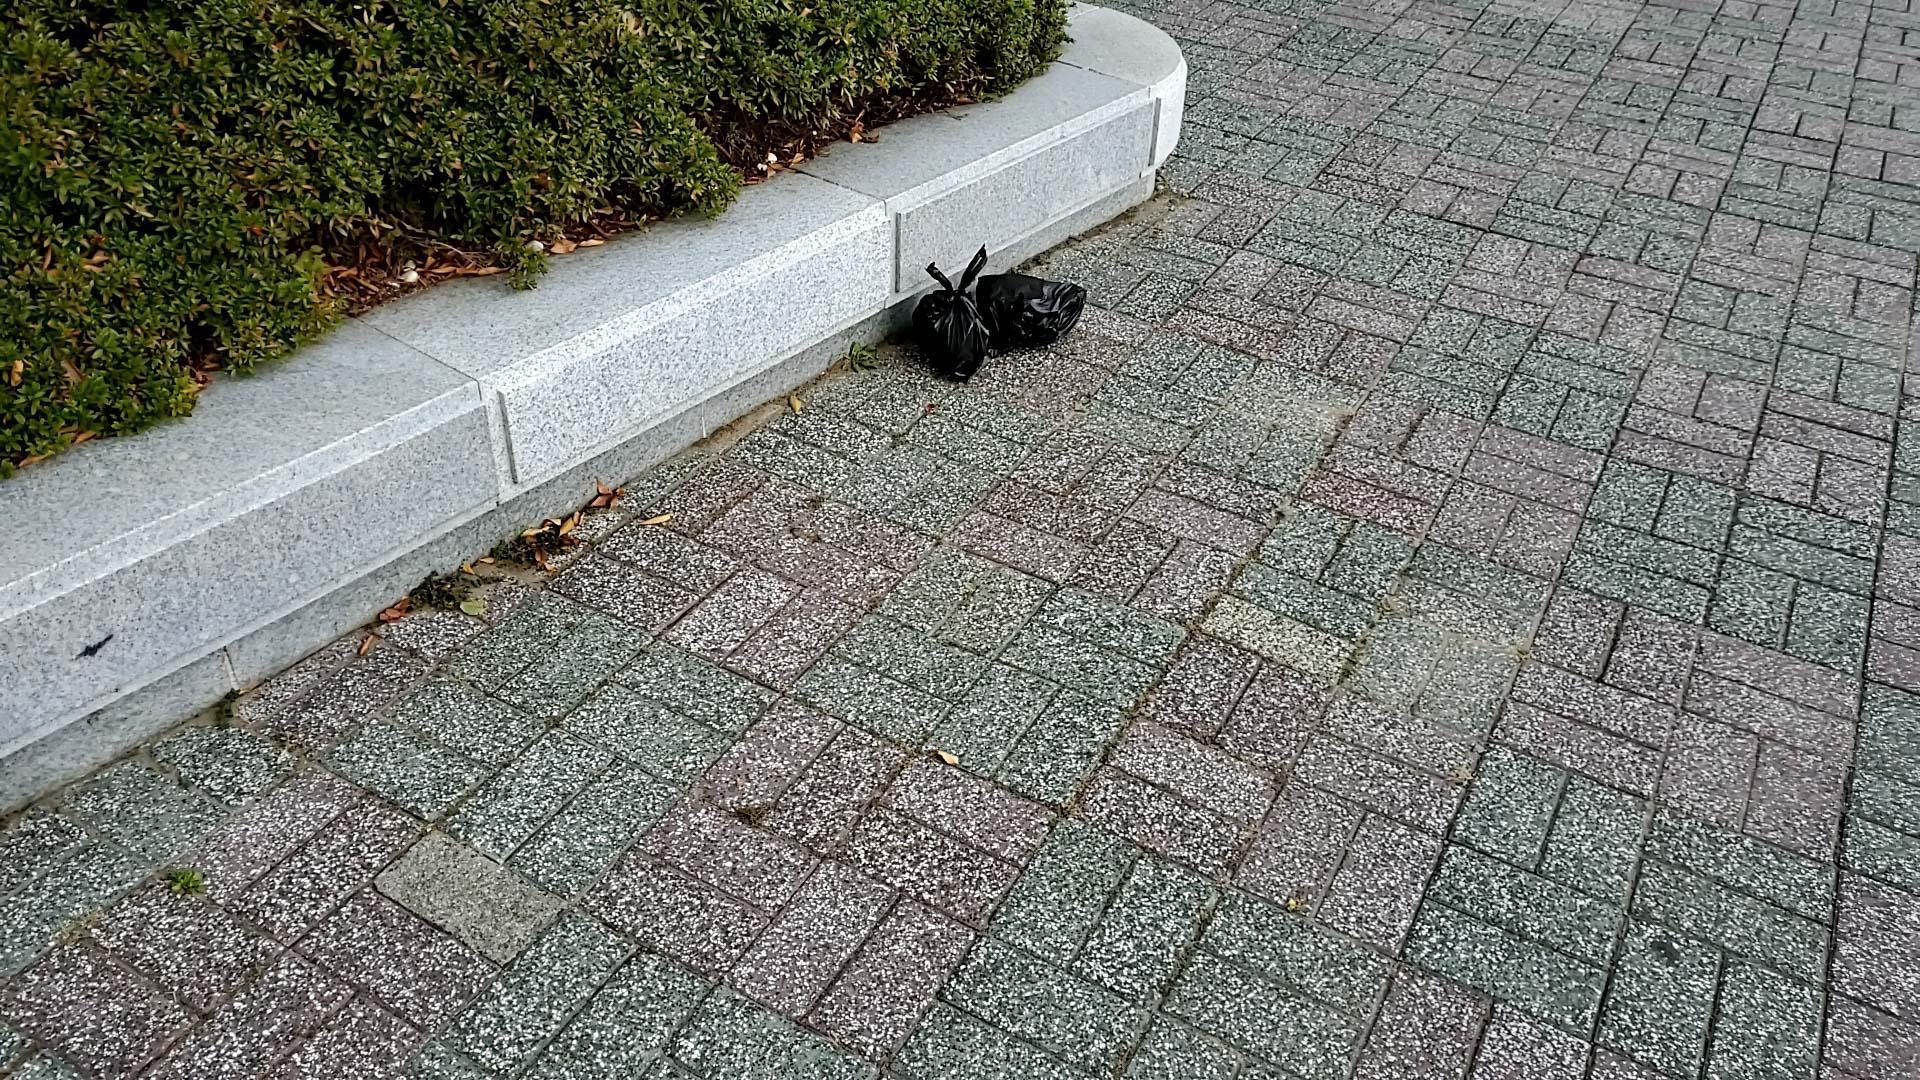black_bag: (903, 243, 1000, 385), (968, 266, 1087, 355)
